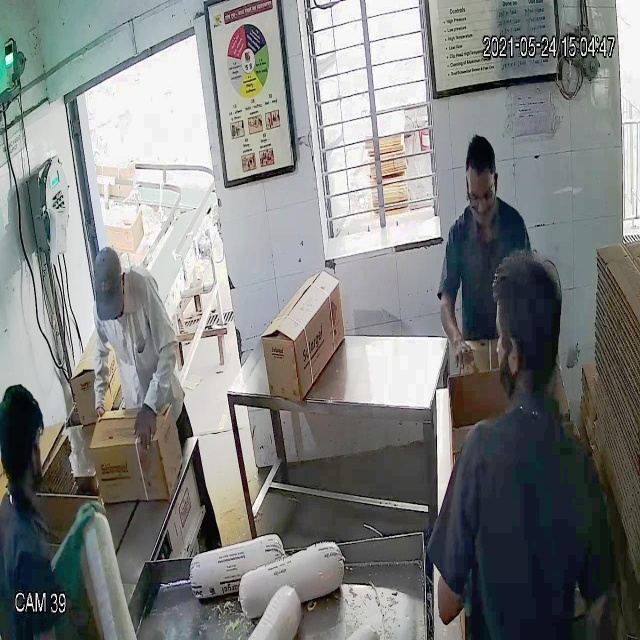Gafas: (462, 176, 499, 214)
